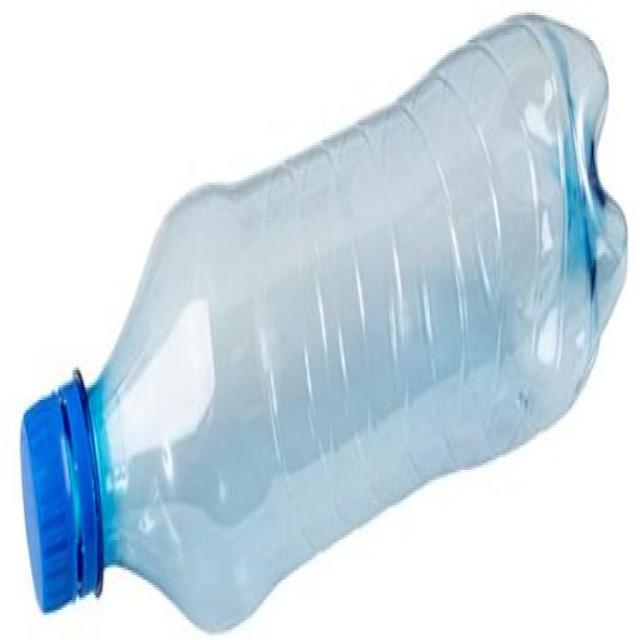general: (19, 8, 627, 632)
